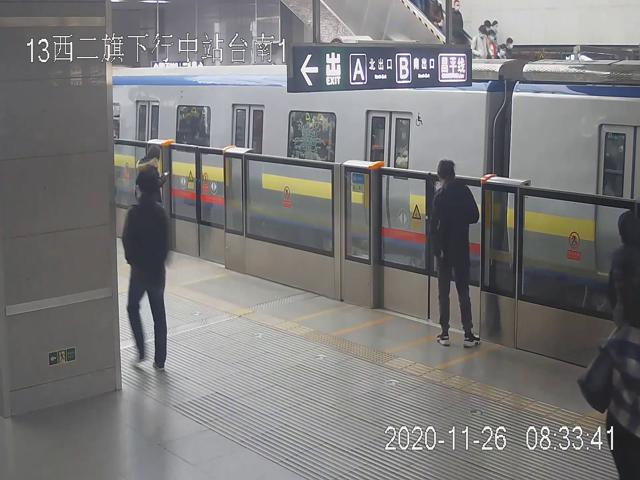person: (430, 159, 482, 349), (122, 170, 171, 370)
